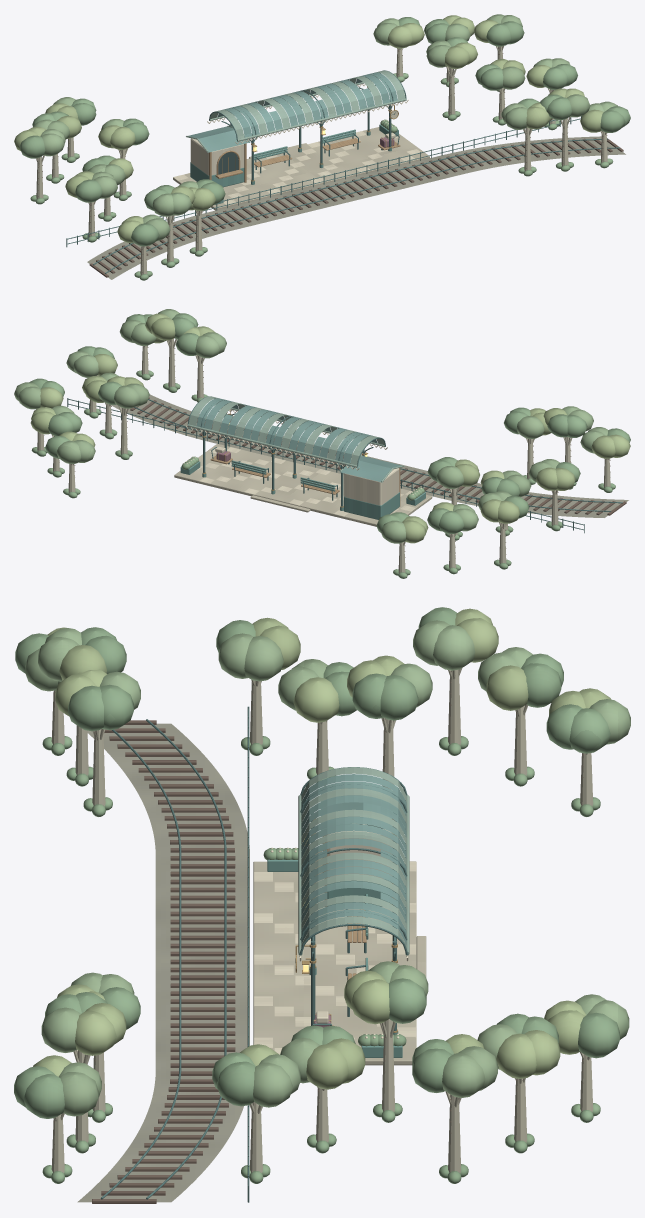
Rendered from village-station.glb.
3 renders of one model, top to bottom at view 1: azimuth 30°, elevation 25°; view 2: azimuth 150°, elevation 25°; view 3: azimuth 270°, elevation 25°, orthographic. The views are drawn at different scales.
Visible parts, largest first — view 1: Forest hamlet; view 2: Forest hamlet; view 3: Forest hamlet.
Part boxes in pixels (x1,y1,x2,y2): Forest hamlet: [14, 14, 630, 280]; Forest hamlet: [14, 309, 630, 578]; Forest hamlet: [14, 607, 630, 1203].
Size of the model in its own units: 36.18 by 5.05 by 19.62.
Materials: 18 (18 with a texture image).
